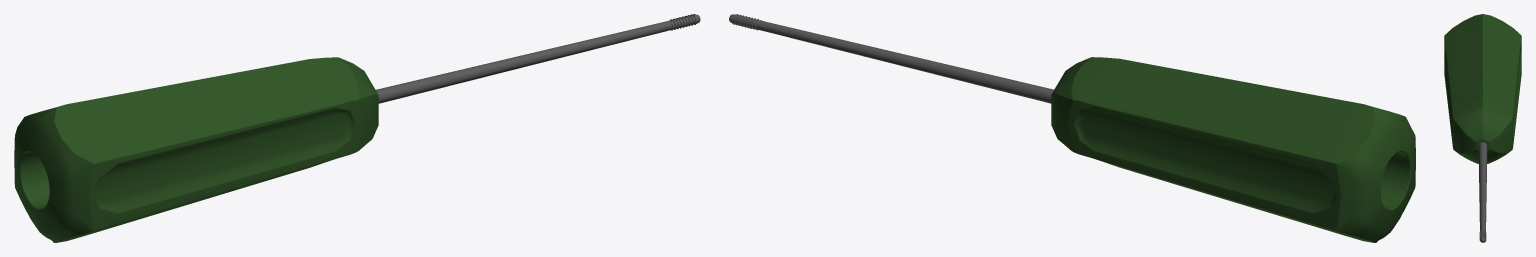
File: Tools_GreenScrewdriver_01.fbx
3 views of the same model, side by side, from view 1: azimuth 30°, elevation 25°; view 2: azimuth 150°, elevation 25°; view 3: azimuth 270°, elevation 25° (orthographic). The views are drawn at different scales.
Visible parts, largest first — view 1: Tools_GreenScrewdriver_01:Tools_GreenScrewdriver_01; view 2: Tools_GreenScrewdriver_01:Tools_GreenScrewdriver_01; view 3: Tools_GreenScrewdriver_01:Tools_GreenScrewdriver_01.
Part boxes in pixels (x1=…): Tools_GreenScrewdriver_01:Tools_GreenScrewdriver_01: x1=14, y1=14, x2=700, y2=242; Tools_GreenScrewdriver_01:Tools_GreenScrewdriver_01: x1=729, y1=14, x2=1415, y2=242; Tools_GreenScrewdriver_01:Tools_GreenScrewdriver_01: x1=1444, y1=14, x2=1521, y2=242.
Size of the model in its own units: 20.27 by 3.98 by 3.42.
